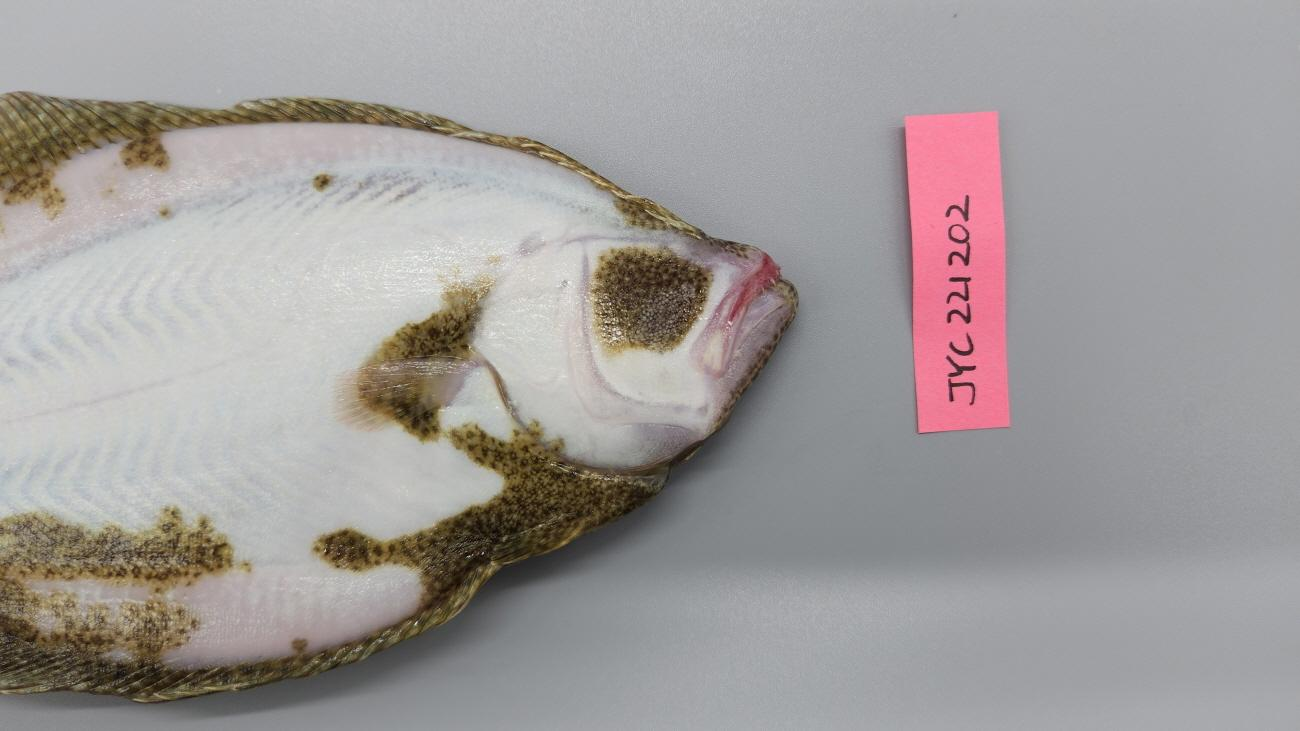MAMOU: (730, 250, 779, 321)
